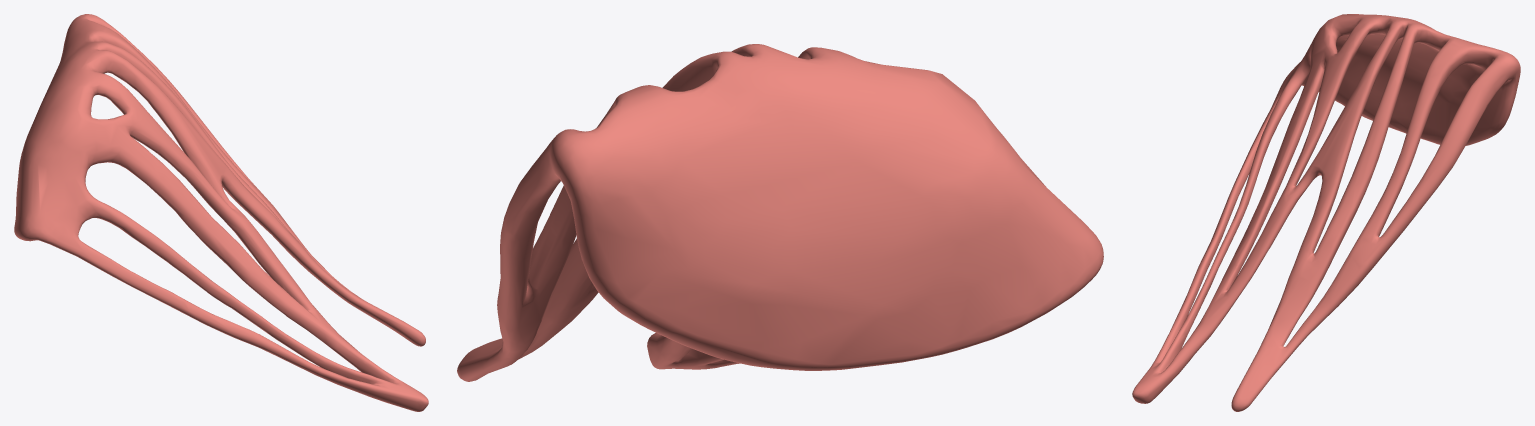
3 renders of one model, left to right at view 1: azimuth 30°, elevation 25°; view 2: azimuth 150°, elevation 25°; view 3: azimuth 270°, elevation 25°, orthographic. The views are drawn at different scales.
Visible parts, largest first — view 1: leaftlet2.015; view 2: leaftlet2.015; view 3: leaftlet2.015.
Boxes of the visible parts, x1,y1,x2,y2 form: leaftlet2.015: [14, 14, 428, 411]; leaftlet2.015: [457, 44, 1103, 381]; leaftlet2.015: [1132, 14, 1520, 411].
Size of the model in its own units: 1.1 by 0.8792 by 1.05.
